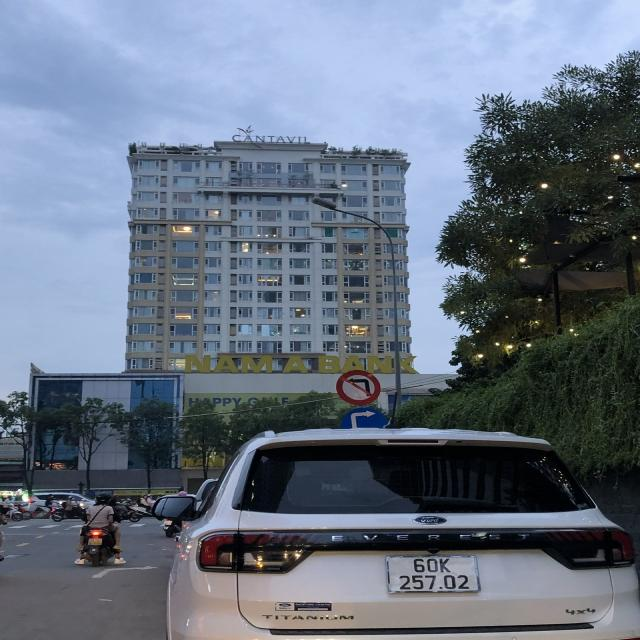Bien bao cam re trai: (333, 364, 388, 404)
